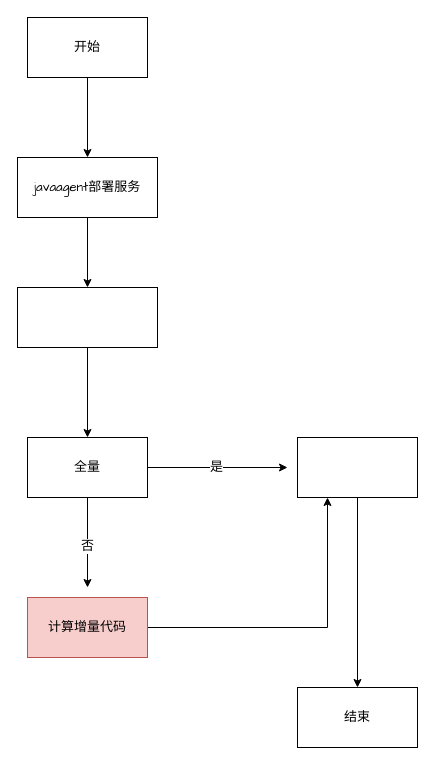
The diagram is 435 pixels wide and 765 high, and some of its shapes have lost their labels. The centre of each missing label's shape, as x and y in pixels:
report 生成报告: (x=357, y=467)
测试完毕，执行dump命令生成exec文件: (x=87, y=317)
